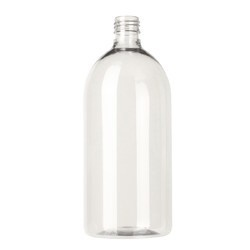emptybottle: (86, 17, 172, 237)
